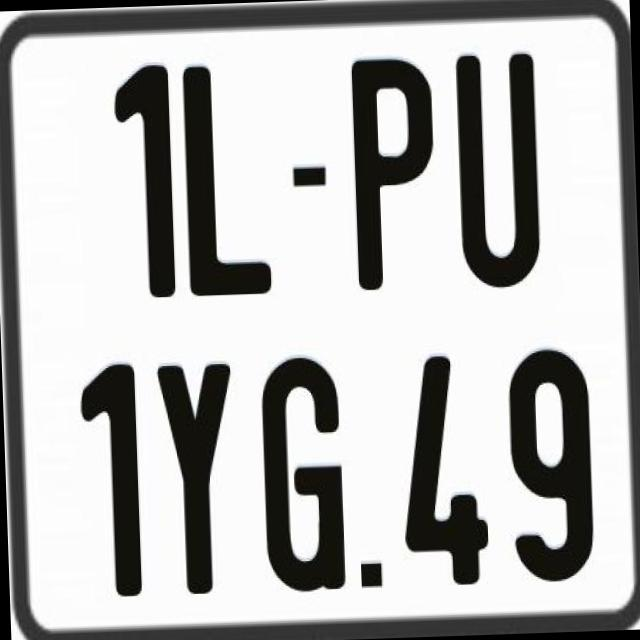1: (109, 64, 178, 306), (78, 360, 146, 604)
4: (399, 351, 495, 586)
9: (506, 344, 597, 586)
G: (259, 352, 347, 598)
L: (180, 62, 271, 300)
P: (347, 54, 435, 288)
U: (452, 54, 538, 292)
Y: (154, 360, 242, 598)
